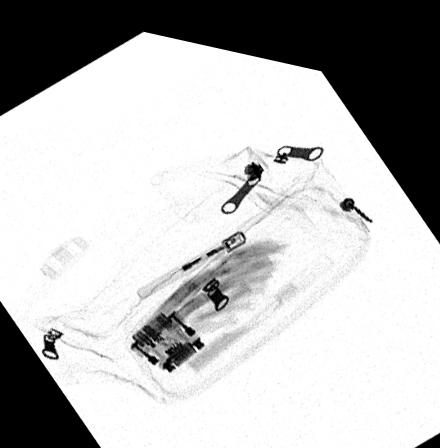Lighter: (136, 218, 246, 293)
